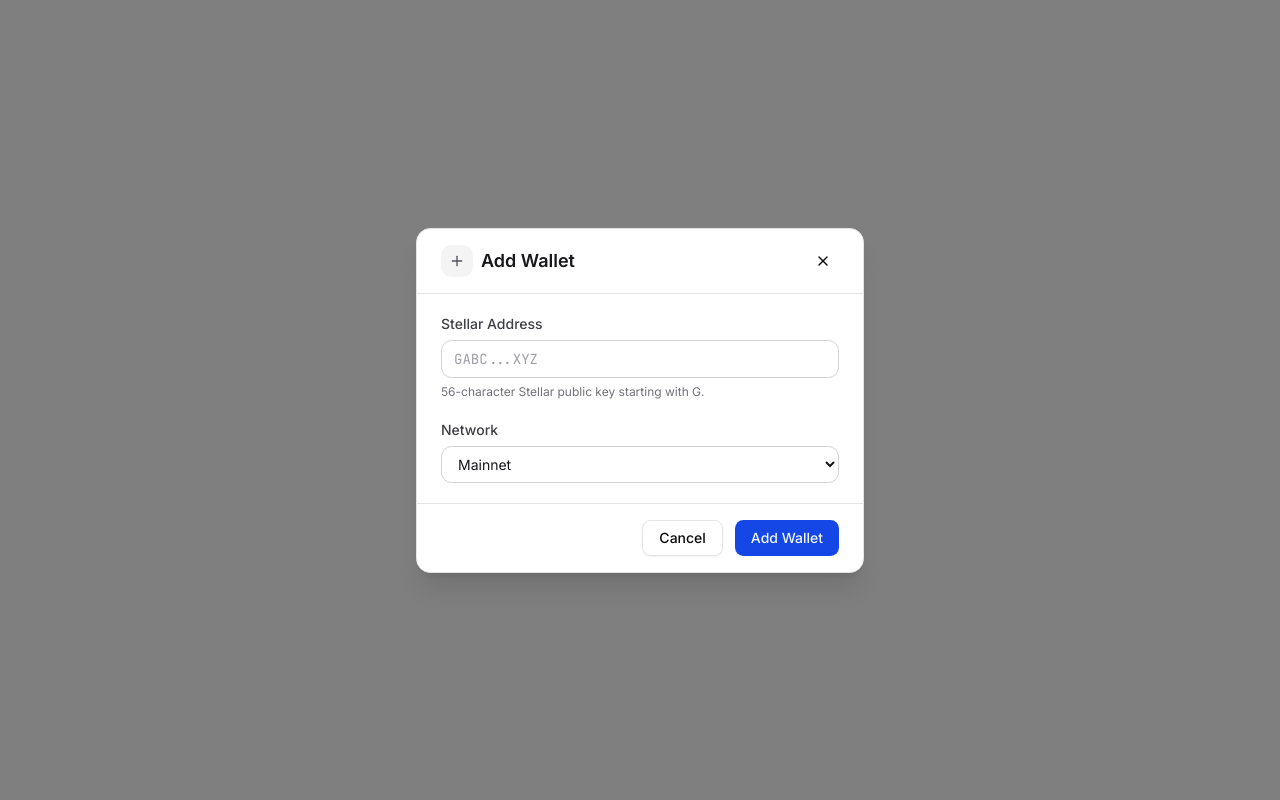
AddWalletModal validation › shows an error for an address that doesn't start with G
The width and height of the screenshot is (1280, 800).
Type "XBZXN7PIRZGNMHGA7MUUUF4GWPY5AYPV6LY4UV2GL6VJGIQRXFDNMADI" into the field labelled "Stellar Address" at (640, 358), box [441,340,839,378]
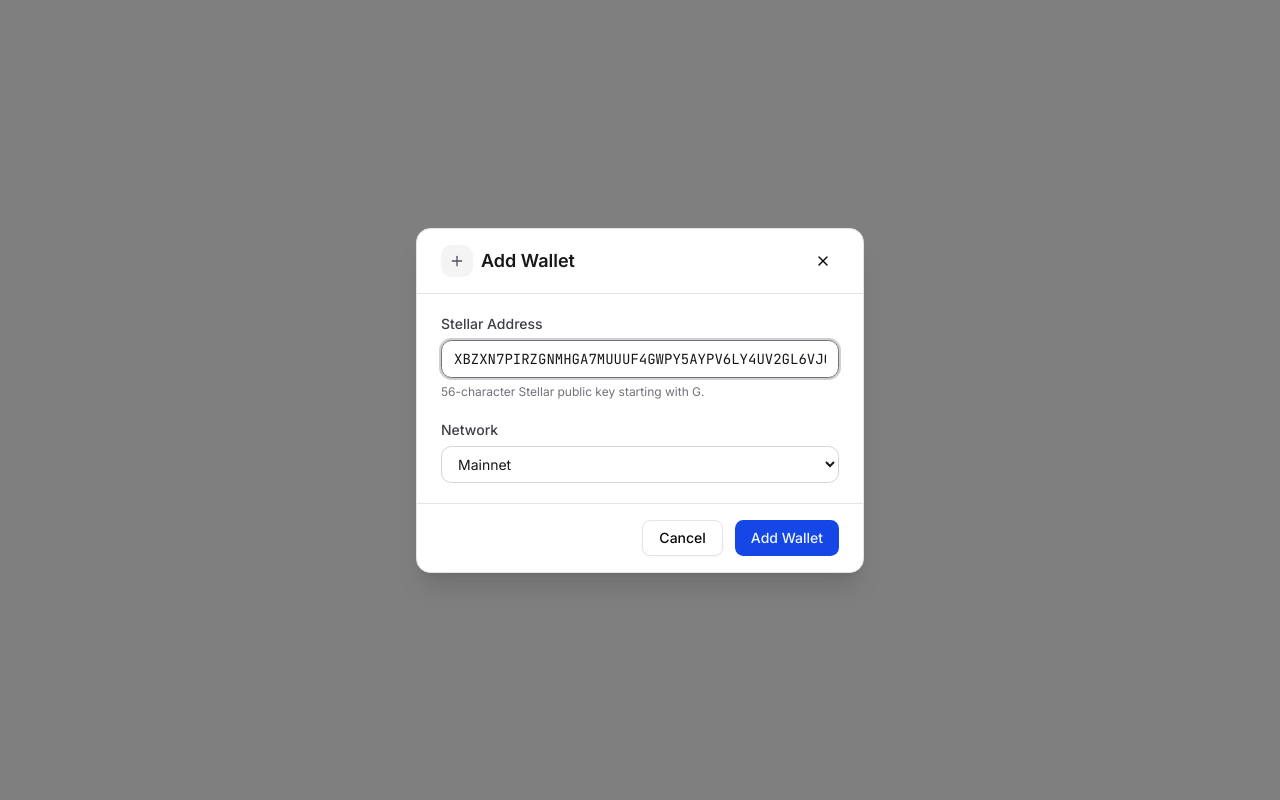
Click the button "Add Wallet" at (787, 538), box [735,520,839,556]
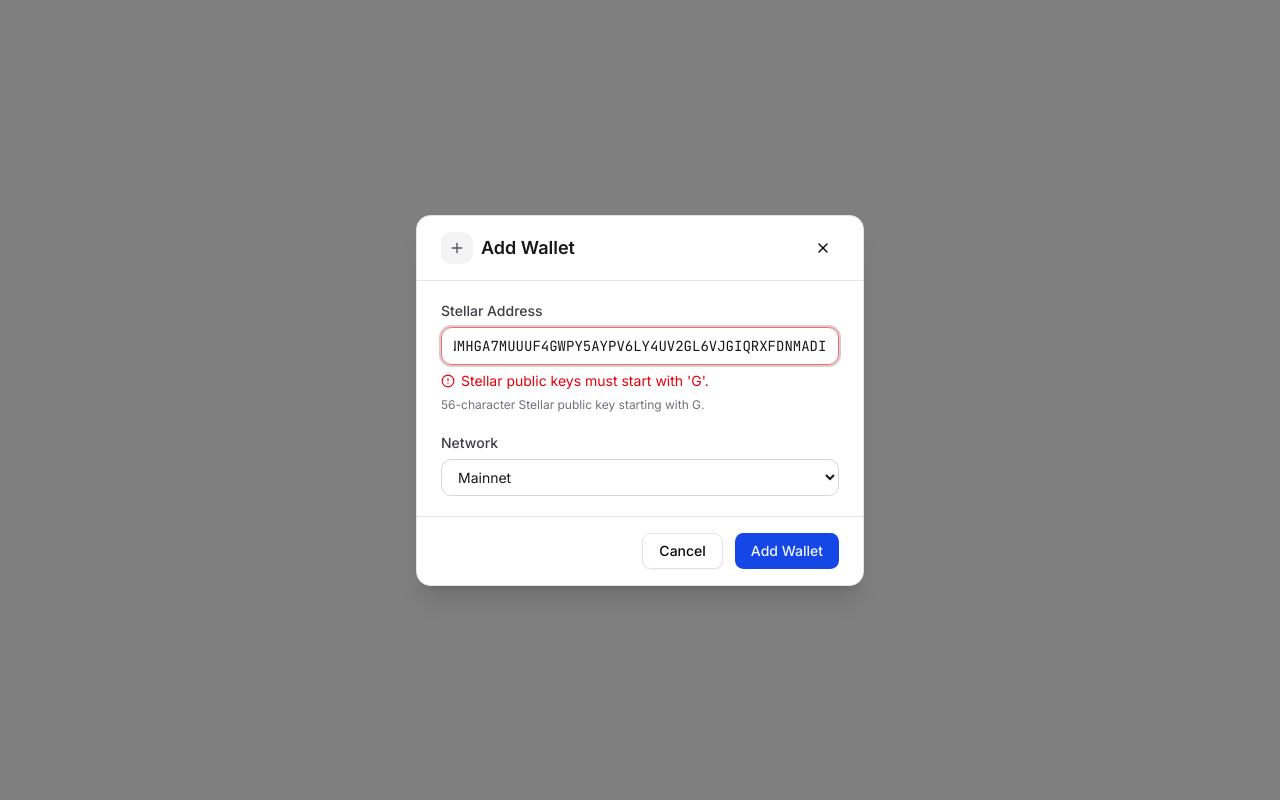
Check: the message shows "start with 'G'", box [461,372,709,388]
